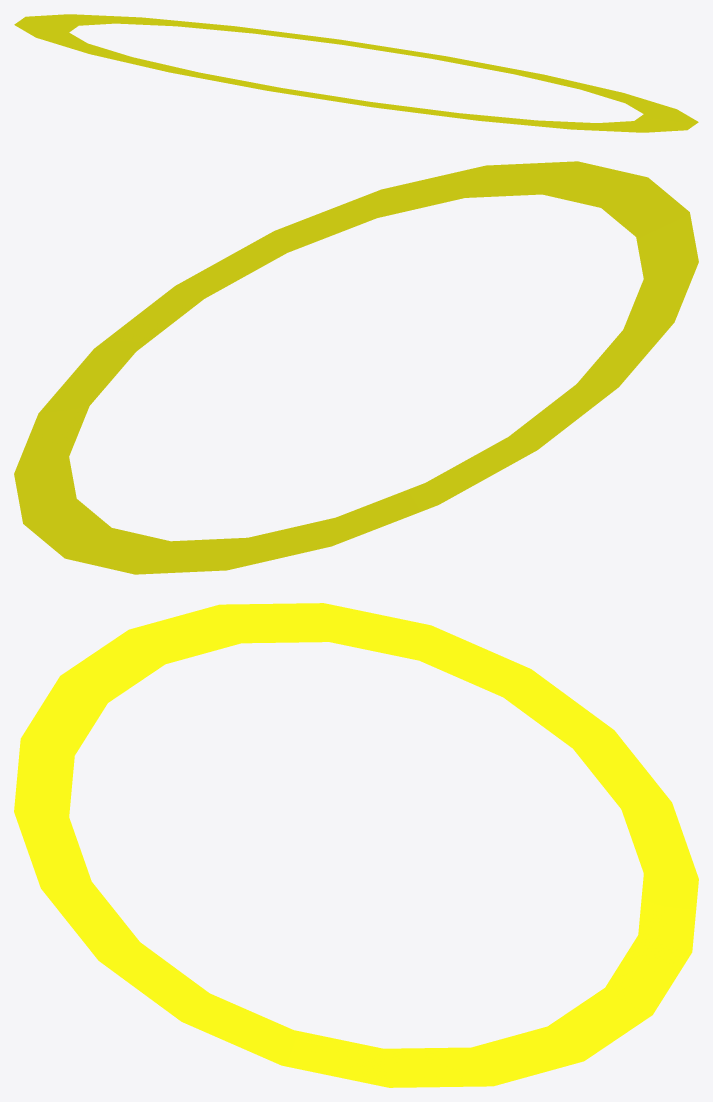
Rendered from RadialPulse.fbx.
The picture shows the model from 3 angles, top to bottom: view 1: azimuth 30°, elevation 25°; view 2: azimuth 150°, elevation 25°; view 3: azimuth 270°, elevation 25°; orthographic projection. The views are drawn at different scales.
Parts seen in each view (by area): view 1: CircleGeo; view 2: CircleGeo; view 3: CircleGeo.
Boxes of the visible parts, left/top/right/bottom form: CircleGeo: left=14, top=14, right=698, bottom=132; CircleGeo: left=14, top=161, right=698, bottom=574; CircleGeo: left=14, top=603, right=698, bottom=1087.
Bounding box in the file's own units: 13.89 × 5.33 × 14.28.
